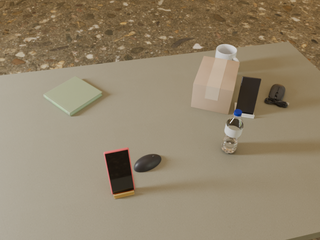book: (44, 76, 103, 116)
bottle: (221, 109, 244, 153)
box: (191, 56, 239, 114)
cup: (215, 44, 239, 62)
mouse: (264, 84, 289, 107), (134, 154, 161, 172)
phone: (104, 148, 135, 194), (236, 77, 261, 115)
